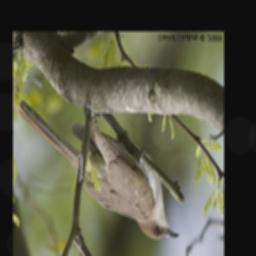Cuckoo: (15, 100, 177, 242)
